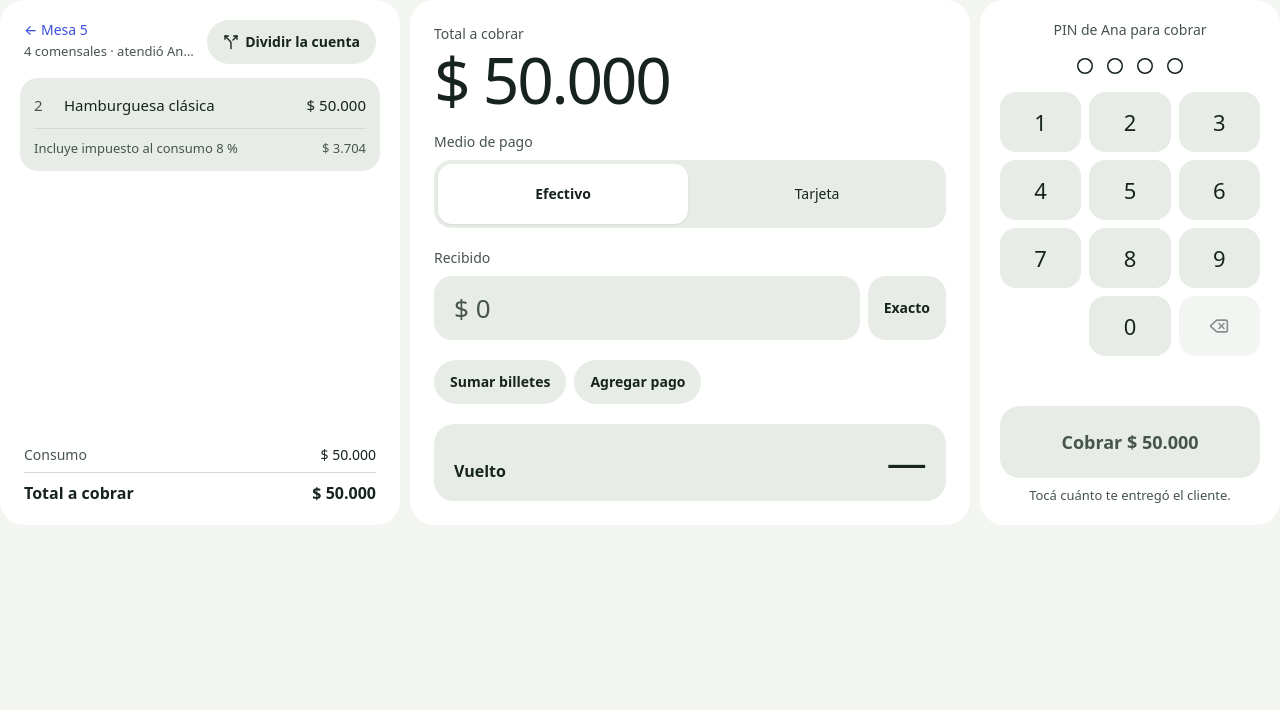
Test: CheckoutPage — partes iguales › pinta las partes de `per_part` como filas numeradas, sin calcular ninguna
The image size is (1280, 710).
Click the button "Dividir la cuenta". click: (292, 42)
box: [207, 20, 376, 64]
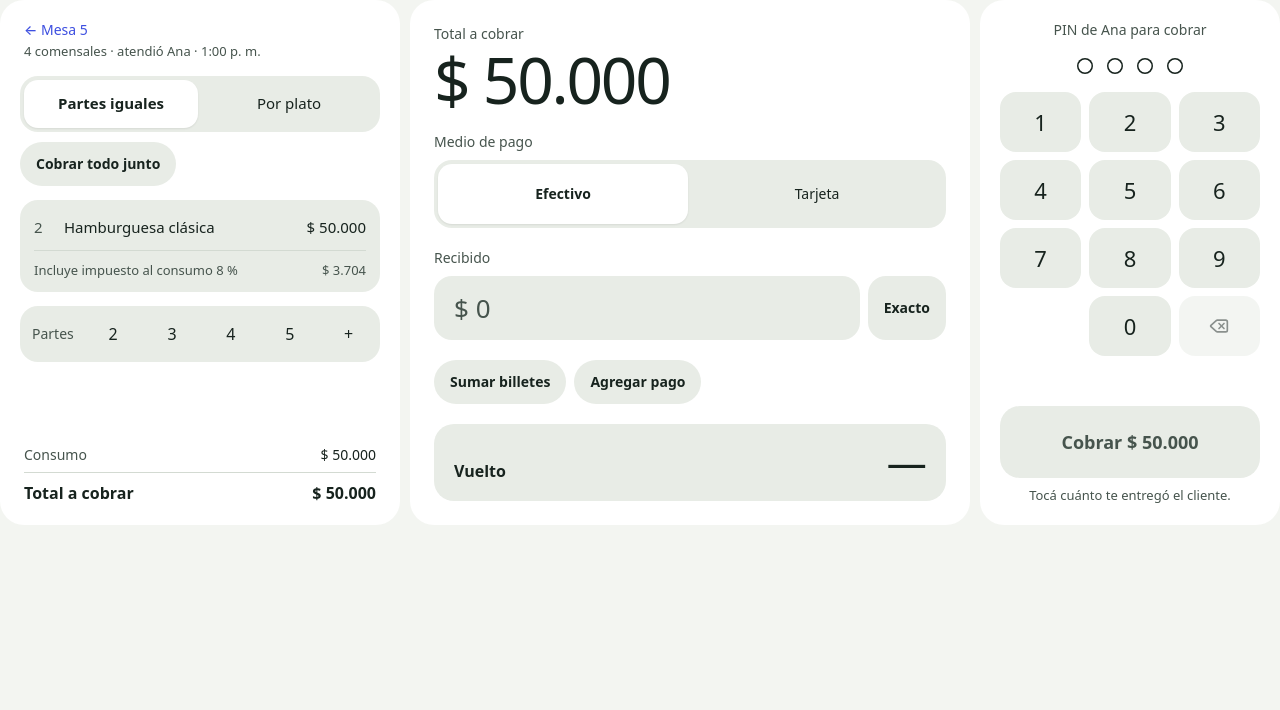
Click the button "Partes iguales". click: (111, 104)
box: [24, 80, 198, 128]
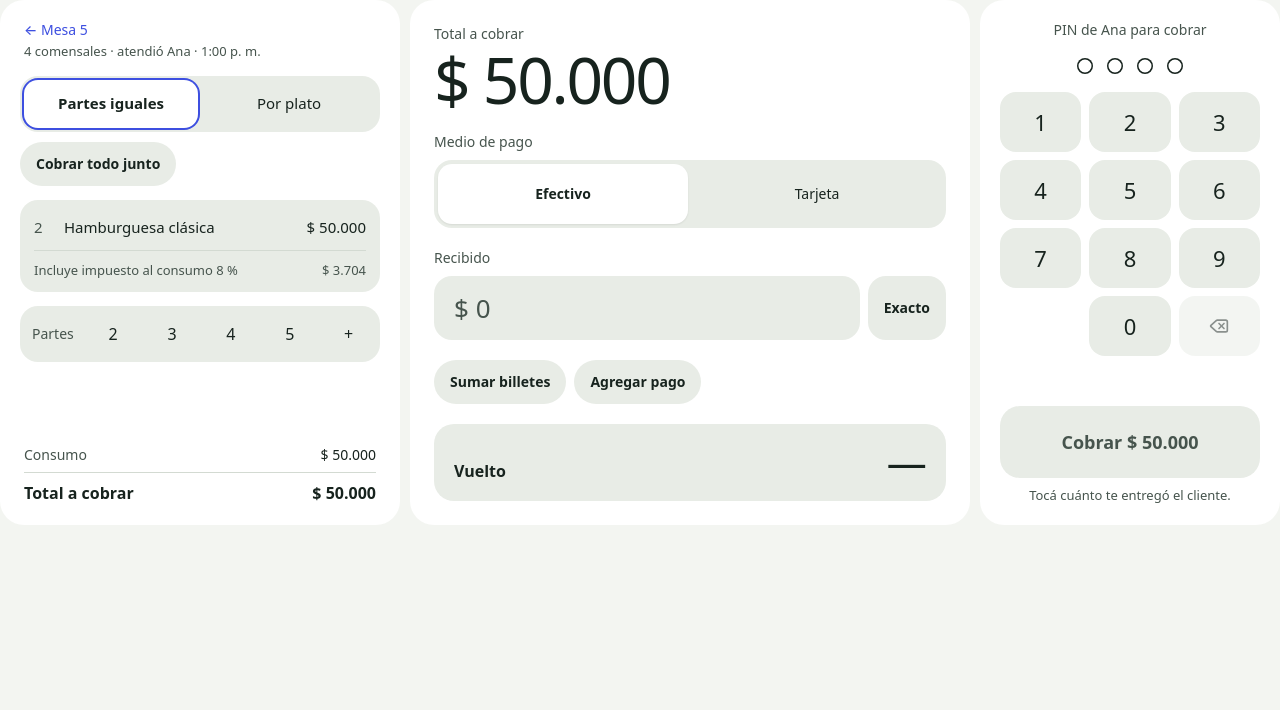
Click the button "3" below "Incluye impuesto al consumo 8 %". click: (172, 334)
box: [145, 310, 199, 358]
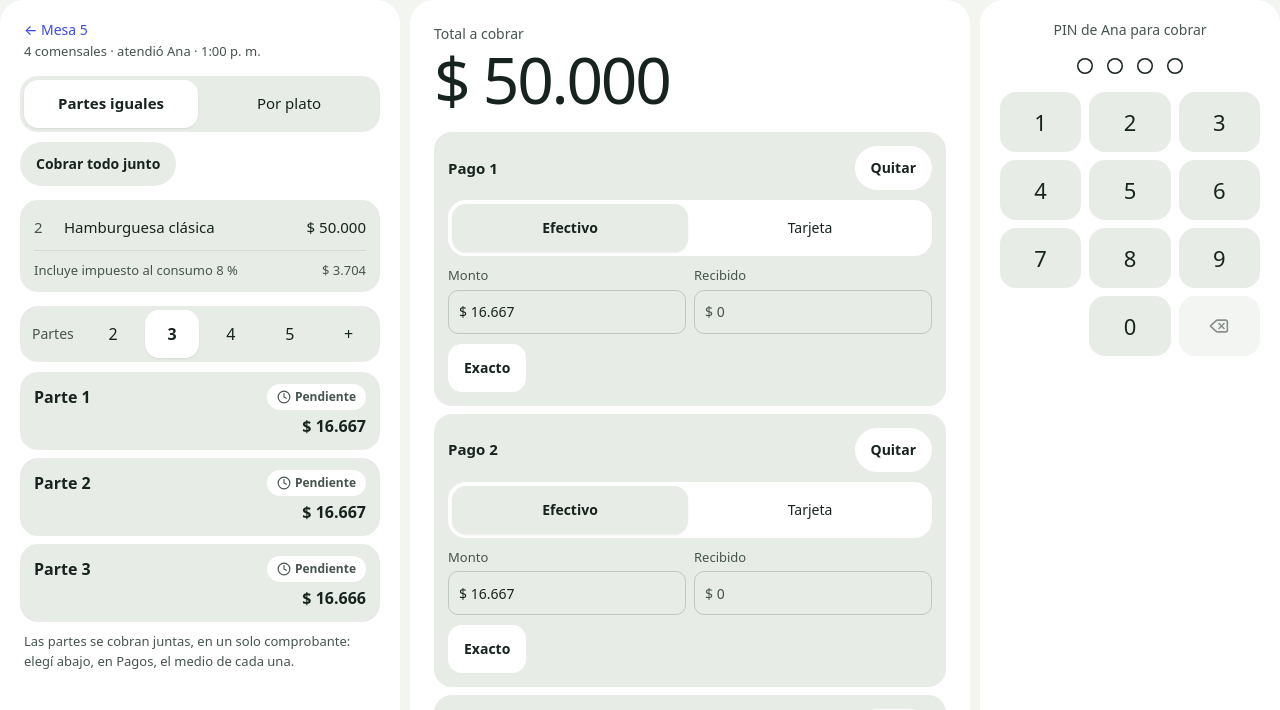
expect the list item "Parte 1 Pendiente $ 16.667" is shown: met, box [20, 372, 380, 450]
expect the list item "Parte 3 Pendiente $ 16.666" is shown: met, box [20, 544, 380, 622]
expect the text "se cobran juntas, en un solo comprobante" is shown: met, box [24, 632, 350, 670]
